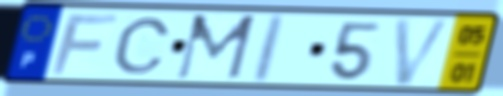5: (329, 20, 385, 82)
C: (111, 15, 175, 76)
F: (48, 12, 122, 76)
I: (247, 12, 289, 85)
M: (172, 13, 260, 82)
V: (391, 17, 456, 87)
